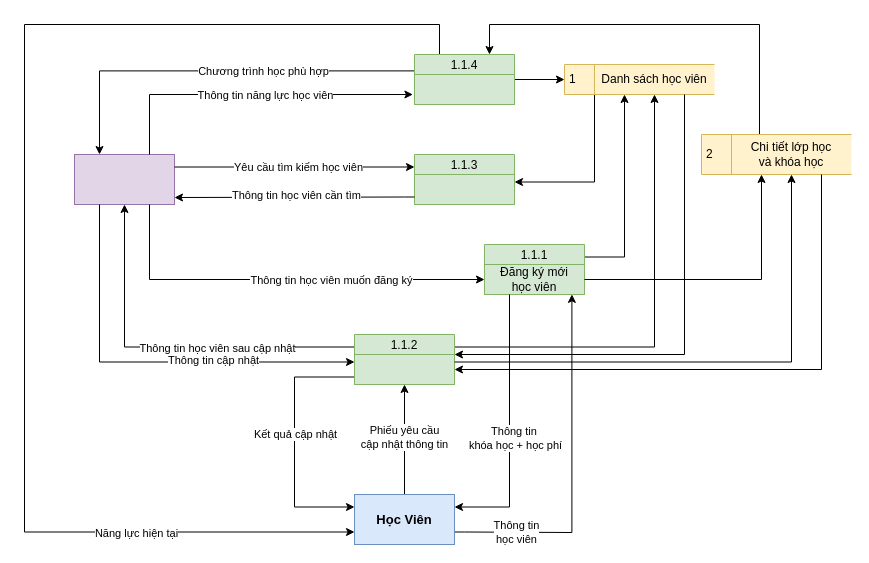
The diagram is 869 pixels wide and 563 high, and some of its shapes have lost their labels. The shapes that lost their labels are listed below. From the top down, each one's centre as x and y in pixels, then its label:
(464,89): Kiểm tra trình độ học viên
(124,179): NVQL Học Viên
(464,189): Hiển thị thông tin học viên
(404,369): Cập nhật học viên
